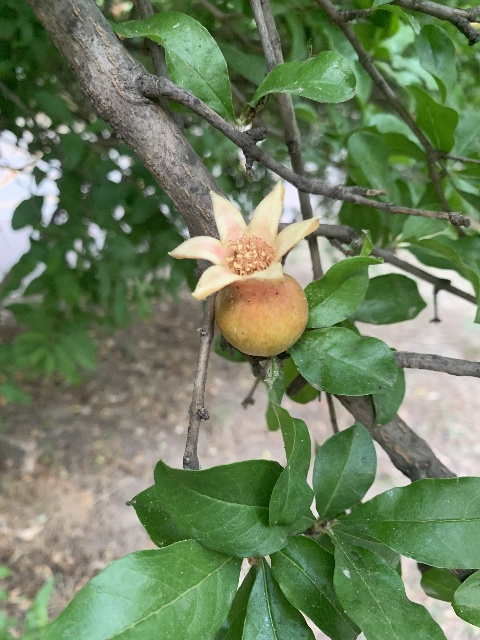early-fruit: (168, 179, 319, 359)
